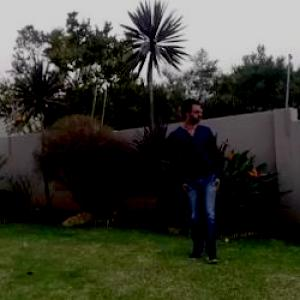follow: (176, 94, 224, 265)
